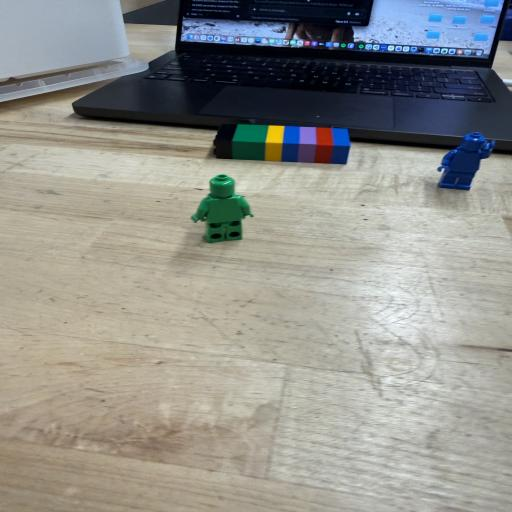blue-minifig: (438, 132, 495, 190)
green-minifig: (191, 174, 253, 242)
